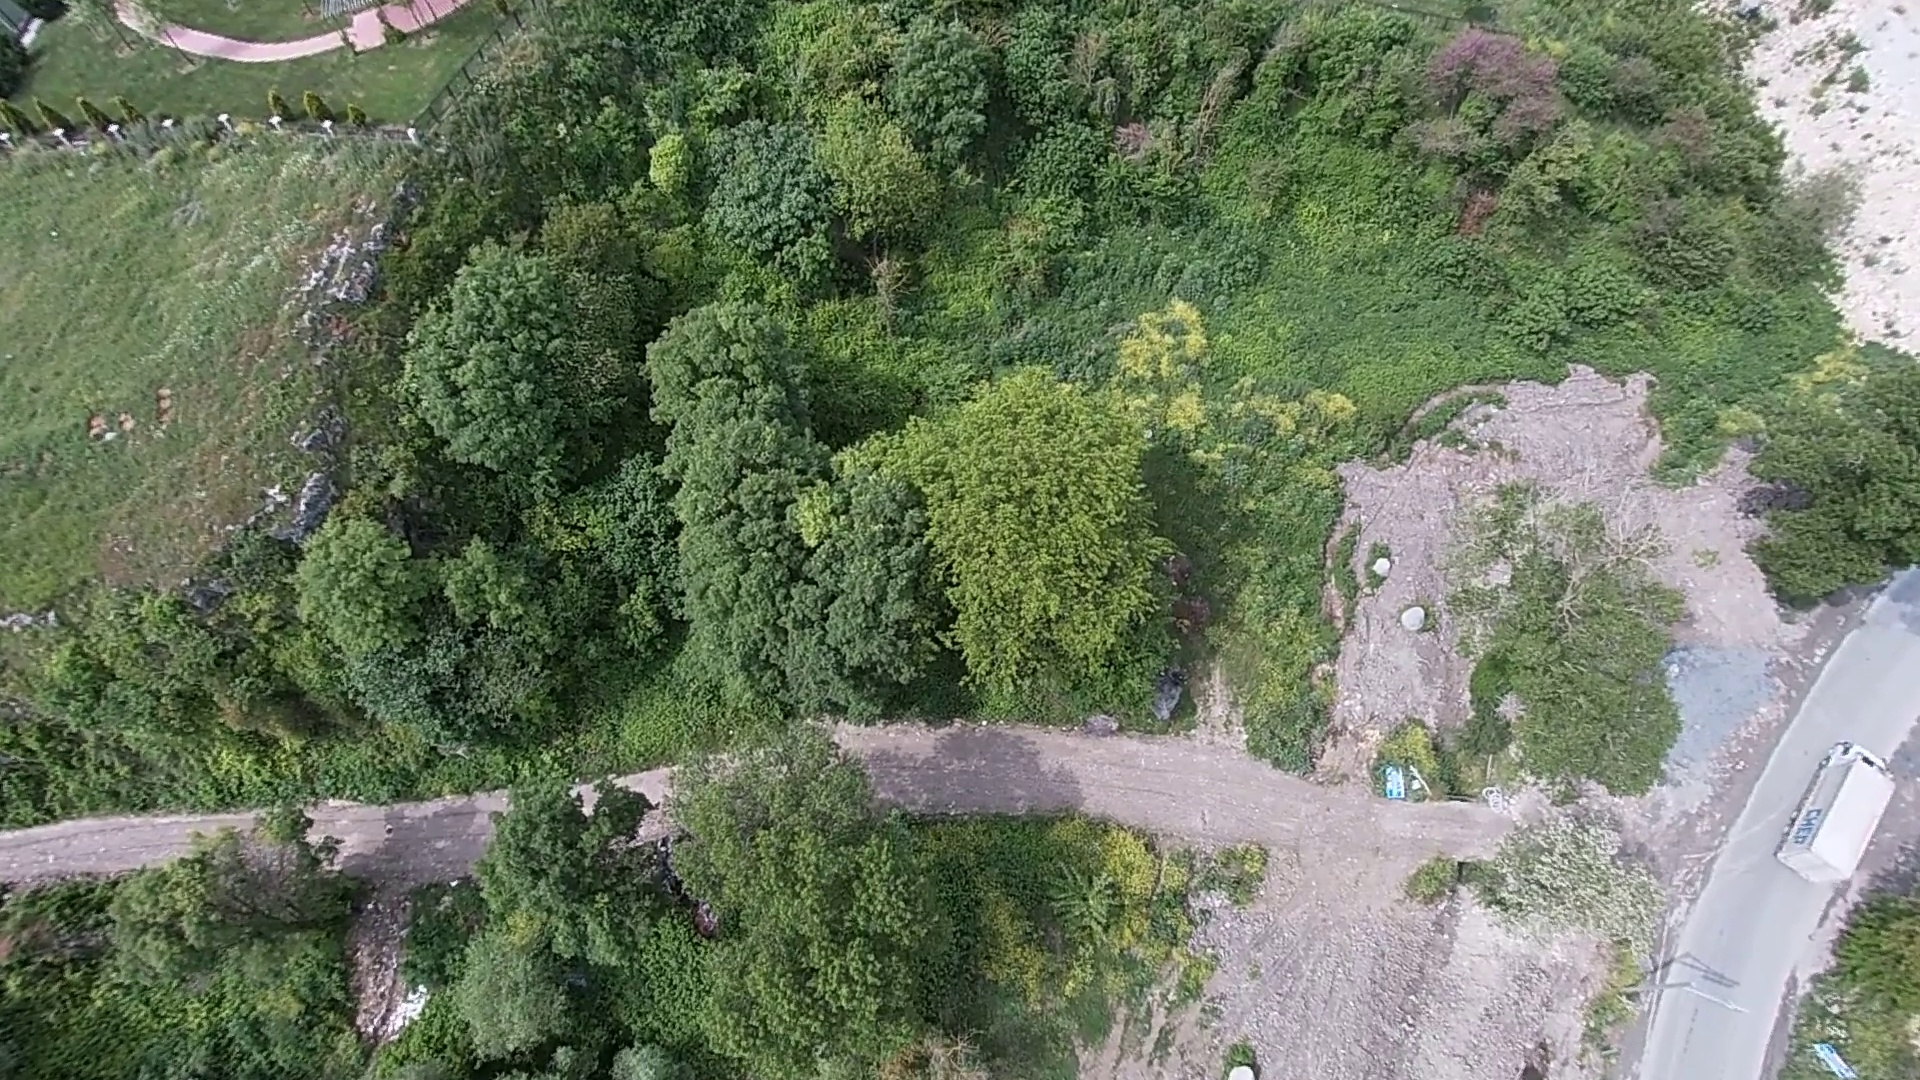arac: (1762, 725, 1903, 909)
